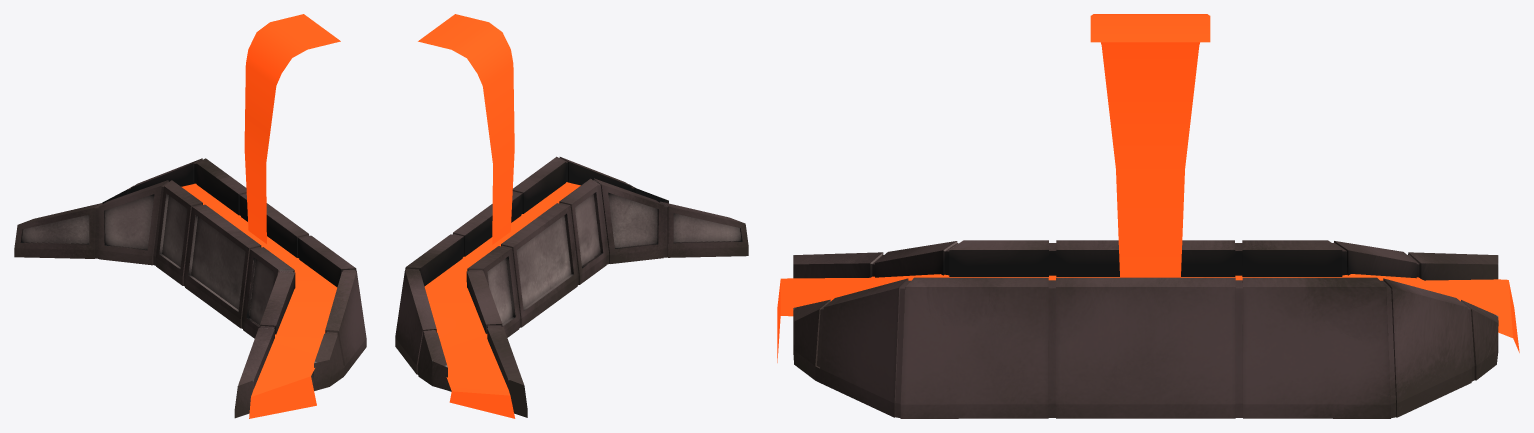
The model's file is Lava_BigWaterfall_Base.fbx.
3 views of the same model, side by side, from view 1: azimuth 30°, elevation 25°; view 2: azimuth 150°, elevation 25°; view 3: azimuth 270°, elevation 25° (orthographic). The views are drawn at different scales.
Parts seen in each view (by area): view 1: Big_Waterfall_Base_LP, Lava_BigWaterfall_Base, Lava_BigWaterfall; view 2: Big_Waterfall_Base_LP, Lava_BigWaterfall_Base, Lava_BigWaterfall; view 3: Big_Waterfall_Base_LP, Lava_BigWaterfall, Lava_BigWaterfall_Base.
Boxes of the visible parts, x1=… form: Big_Waterfall_Base_LP: x1=14, y1=158, x2=366, y2=418; Lava_BigWaterfall_Base: x1=181, y1=183, x2=337, y2=418; Lava_BigWaterfall: x1=244, y1=14, x2=340, y2=243; Big_Waterfall_Base_LP: x1=395, y1=156, x2=748, y2=417; Lava_BigWaterfall_Base: x1=424, y1=182, x2=580, y2=418; Lava_BigWaterfall: x1=418, y1=14, x2=514, y2=244; Big_Waterfall_Base_LP: x1=793, y1=240, x2=1498, y2=418; Lava_BigWaterfall: x1=1090, y1=14, x2=1210, y2=277; Lava_BigWaterfall_Base: x1=777, y1=274, x2=1519, y2=362.
Bounding box in the file's own units: 40.77 × 82.15 × 51.33.
